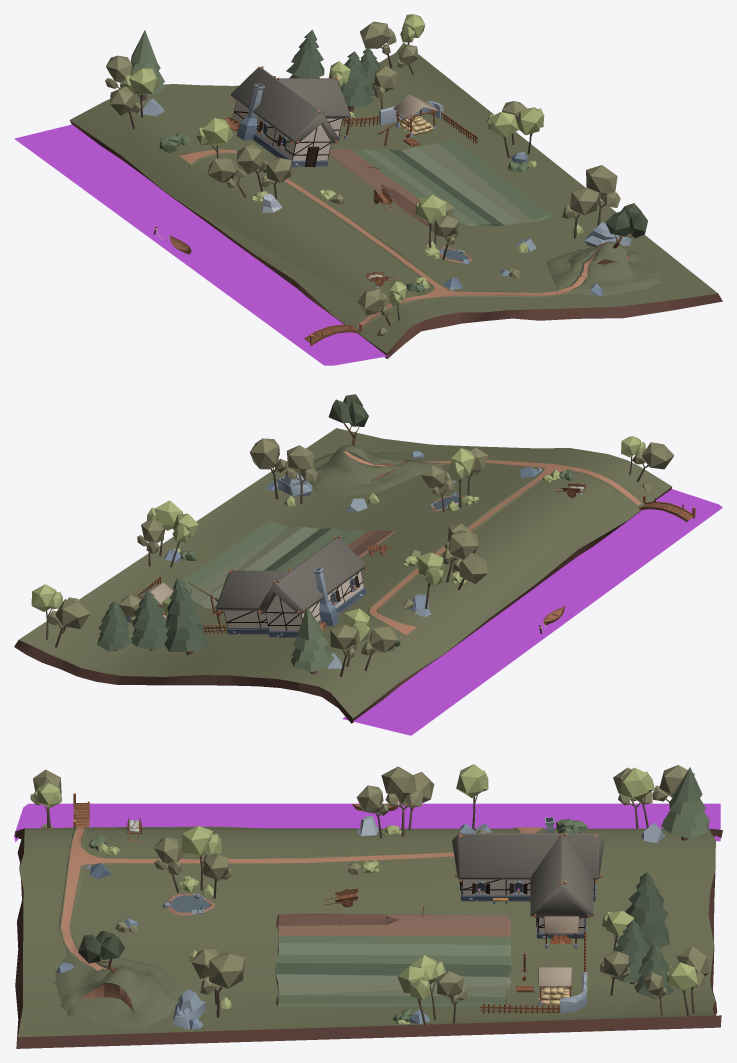
File: escenarioFull.obj
3 views of the same model, one above another, from view 1: azimuth 30°, elevation 25°; view 2: azimuth 150°, elevation 25°; view 3: azimuth 270°, elevation 25° (orthographic). The views are drawn at different scales.
Parts seen in each view (by area): view 1: Scene, Waterfall; view 2: Scene, Waterfall; view 3: Scene, Waterfall.
Boxes of the visible parts, left/top/right/bottom form: Scene: left=69, top=14, right=722, bottom=358; Waterfall: left=14, top=124, right=390, bottom=365; Scene: left=14, top=394, right=695, bottom=723; Waterfall: left=342, top=489, right=722, bottom=735; Scene: left=15, top=764, right=722, bottom=1048; Waterfall: left=14, top=803, right=720, bottom=842.
Size of the model in its own units: 1945 by 554 by 2702.
2 materials, 1 textured.
